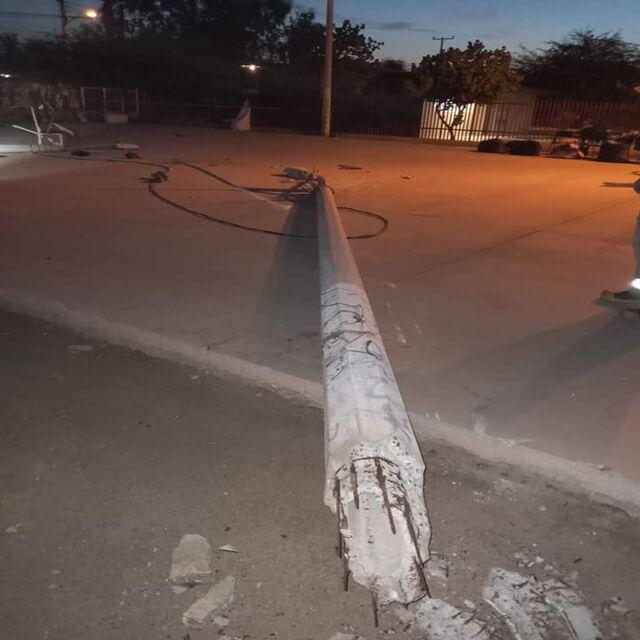Inclined Pole: (312, 175, 431, 608)
